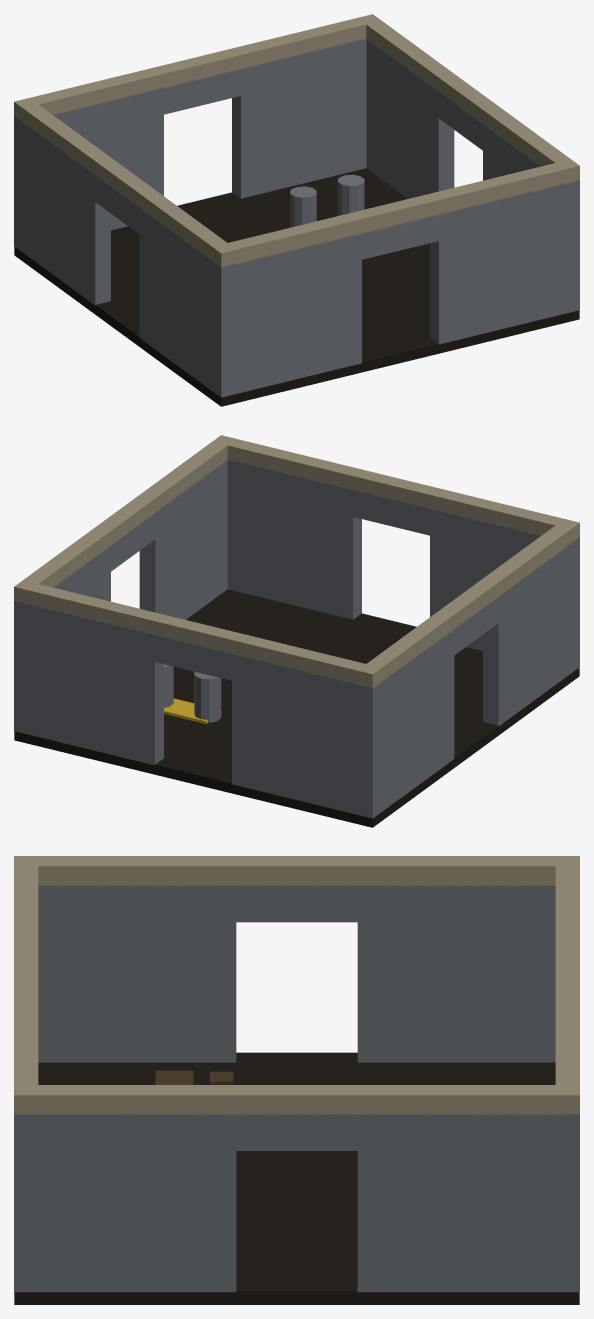
Rendered from LordsSolar.fbx.
3 renders of one model, top to bottom at view 1: azimuth 30°, elevation 25°; view 2: azimuth 150°, elevation 25°; view 3: azimuth 270°, elevation 25°, orthographic. The views are drawn at different scales.
Parts seen in each view (by area): view 1: LordsSolar; view 2: LordsSolar; view 3: LordsSolar.
Part boxes in pixels (box(x1,y1,x2,y2)): LordsSolar: box(14, 14, 579, 406); LordsSolar: box(14, 435, 579, 827); LordsSolar: box(14, 856, 579, 1304).
Bounding box in the file's own units: 1202 × 492 × 1202.
5 materials, 5 textured.
